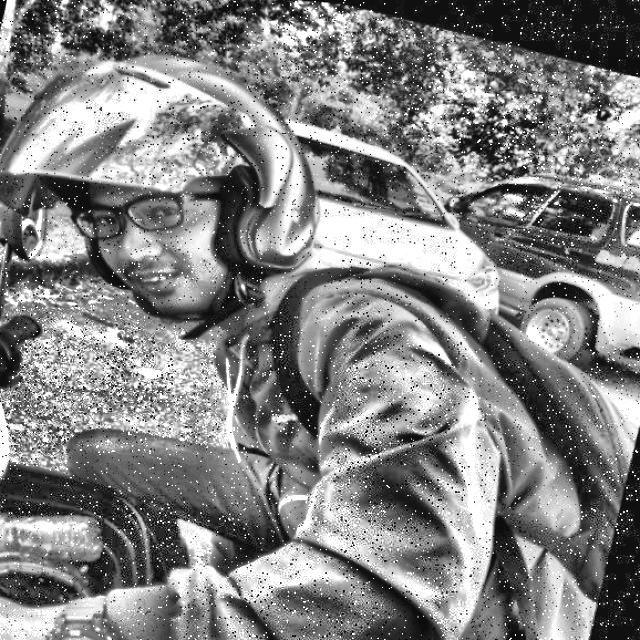Helmet: (0, 6, 360, 356)
